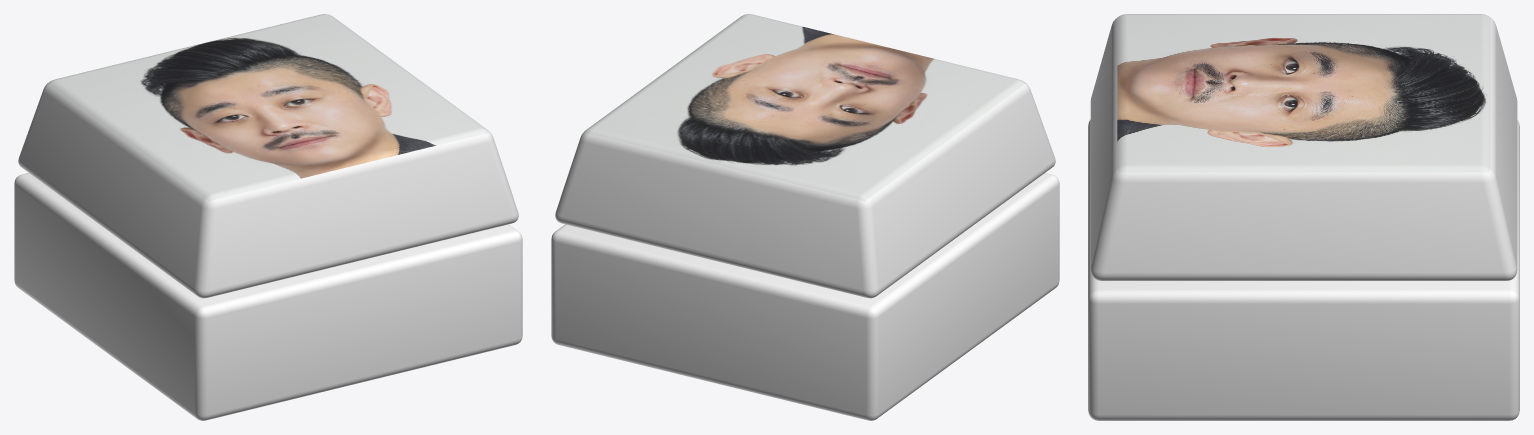
Rendered from keycap.glb.
3 renders of one model, left to right at view 1: azimuth 30°, elevation 25°; view 2: azimuth 150°, elevation 25°; view 3: azimuth 270°, elevation 25°, orthographic. The views are drawn at different scales.
Parts seen in each view (by area): view 1: Keycap_Top, Keycap_Base; view 2: Keycap_Top, Keycap_Base; view 3: Keycap_Top, Keycap_Base.
Part boxes in pixels (left/top/right/bottom): Keycap_Top: left=18, top=14, right=518, bottom=298; Keycap_Base: left=14, top=173, right=522, bottom=420; Keycap_Top: left=555, top=14, right=1055, bottom=298; Keycap_Base: left=551, top=173, right=1059, bottom=420; Keycap_Top: left=1090, top=14, right=1517, bottom=280; Keycap_Base: left=1088, top=119, right=1519, bottom=420.
Bounding box in the file's own units: 0.018 × 0.0112 × 0.018.
Materials: 4 (1 with a texture image).
